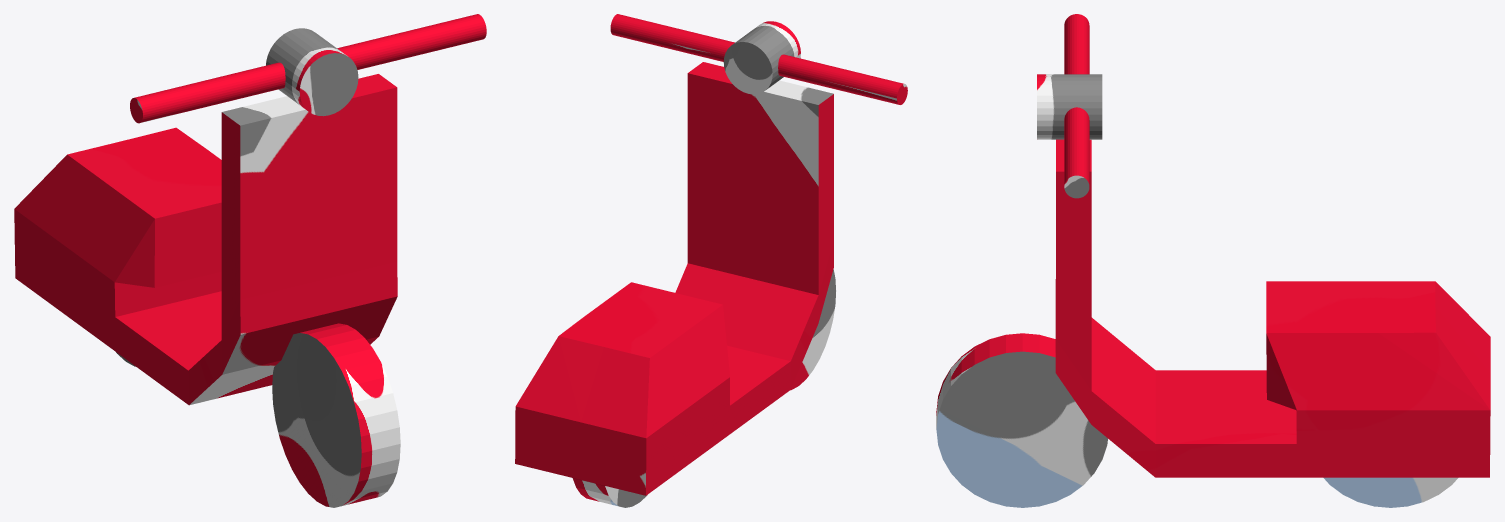
Rendered from player.obj.
3 renders of one model, left to right at view 1: azimuth 30°, elevation 25°; view 2: azimuth 150°, elevation 25°; view 3: azimuth 270°, elevation 25°, orthographic. The views are drawn at different scales.
Visible parts, largest first — view 1: 円柱.002; view 2: 円柱.002; view 3: 円柱.002.
Part boxes in pixels (x1,y1,x2,y2): 円柱.002: (14,14,486,507); 円柱.002: (515,14,907,507); 円柱.002: (936,14,1490,507).
Bounding box in the file's own units: 0.9201 × 1.12 × 1.33.
